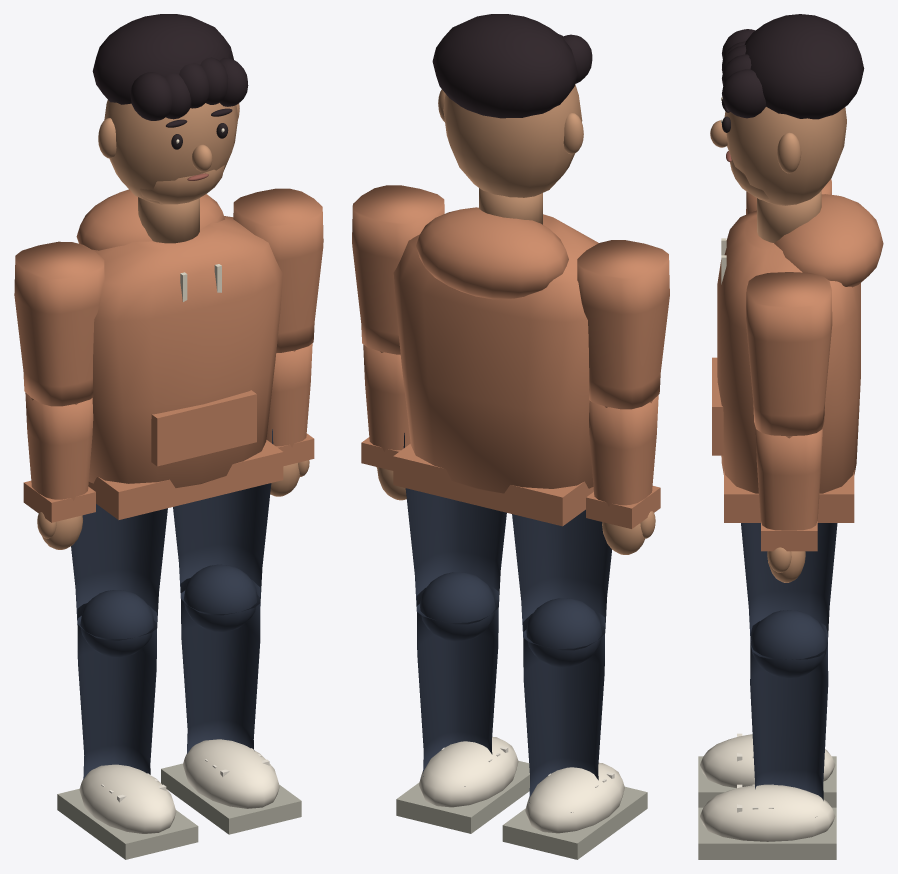
Rendered from customer.glb.
3 renders of one model, left to right at view 1: azimuth 30°, elevation 25°; view 2: azimuth 150°, elevation 25°; view 3: azimuth 270°, elevation 25°, orthographic. The views are drawn at different scales.
Parts seen in each view (by area): view 1: Hoodie, Upper sleeve, Trouser shin, Trouser shin.001, Upper sleeve.001, Head, Trouser thigh, Trouser thigh.001, Hair, Lower sleeve, Hoodie pocket, Hoodie hem (+20 smaller); view 2: Hoodie, Upper sleeve, Hair, Hood, Head, Trouser shin, Trouser shin.001, Upper sleeve.001, Trouser thigh, Trouser thigh.001, Lower sleeve, Hoodie hem (+13 smaller); view 3: Hoodie, Upper sleeve.001, Hair, Trouser shin.001, Head, Hood, Sneaker.001, Trouser thigh.001, Lower sleeve.001, Knee joint.001, Shoe sole.001, Hoodie hem (+11 smaller).
Part boxes in pixels (left/top/right/bottom): Hoodie: left=88, top=216, right=282, bottom=487; Upper sleeve: left=14, top=241, right=104, bottom=406; Trouser shin: left=77, top=603, right=157, bottom=779; Trouser shin.001: left=180, top=578, right=260, bottom=753; Upper sleeve.001: left=233, top=188, right=323, bottom=352; Head: left=104, top=100, right=238, bottom=204; Trouser thigh: left=71, top=504, right=167, bottom=640; Trouser thigh.001: left=173, top=429, right=273, bottom=615; Hair: left=92, top=14, right=233, bottom=104; Lower sleeve: left=25, top=392, right=93, bottom=500; Hoodie pocket: left=151, top=390, right=256, bottom=466; Hoodie hem: left=88, top=440, right=283, bottom=519; Hoodie: left=393, top=214, right=598, bottom=493; Upper sleeve: left=577, top=240, right=669, bottom=409; Hair: left=432, top=14, right=577, bottom=118; Hood: left=416, top=207, right=568, bottom=299; Head: left=443, top=84, right=582, bottom=197; Trouser shin: left=523, top=611, right=605, bottom=812; Trouser shin.001: left=416, top=585, right=498, bottom=786; Upper sleeve.001: left=352, top=185, right=444, bottom=354; Trouser thigh: left=512, top=509, right=611, bottom=650; Trouser thigh.001: left=403, top=433, right=506, bottom=624; Lower sleeve: left=589, top=395, right=658, bottom=506; Hoodie hem: left=393, top=444, right=593, bottom=526; Hoodie: left=717, top=210, right=860, bottom=493; Upper sleeve.001: left=746, top=272, right=832, bottom=436; Hair: left=744, top=14, right=864, bottom=119; Trouser shin.001: left=750, top=621, right=828, bottom=817; Head: left=724, top=107, right=846, bottom=205; Hood: left=774, top=194, right=883, bottom=287; Sneaker.001: left=700, top=784, right=835, bottom=841; Trouser thigh.001: left=741, top=523, right=837, bottom=659; Lower sleeve.001: left=755, top=427, right=822, bottom=530; Knee joint.001: left=750, top=610, right=827, bottom=677; Shoe sole.001: left=698, top=807, right=836, bottom=859; Hoodie hem: left=724, top=470, right=854, bottom=522.
Bounding box in the file's own units: 0.762 × 1.95 × 0.412.
